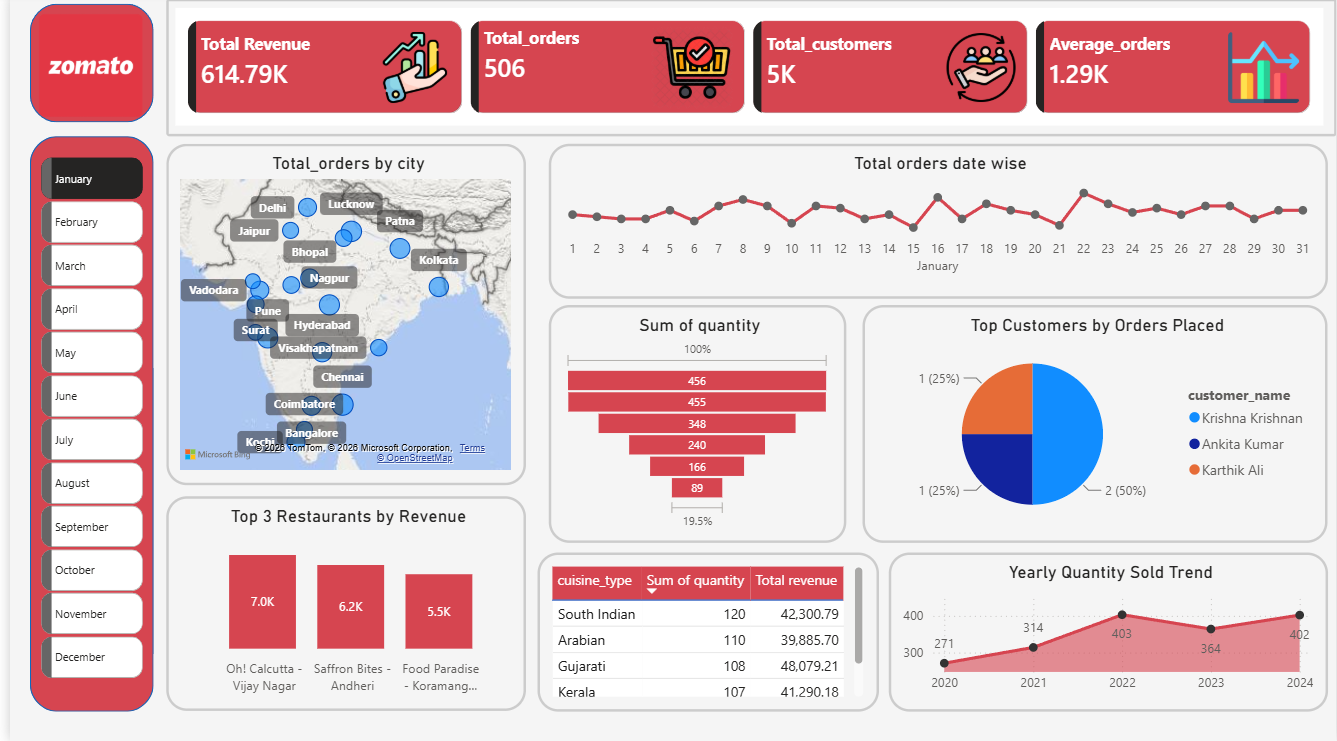

The dashboard page shown, as its layout file describes it:
{"tool":"powerbi","page":{"name":"Page 1","canvas":[1280,720],"ordinal":0},"visuals":[{"type":"shape","box":[19.3,8.4,119.3,114.5],"z":0},{"type":"image","box":[2.5,0,151.2,136.2],"z":1000},{"type":"shape","box":[19.3,136.1,119.3,555.4],"z":2000},{"type":"advancedSlicerVisual","fields":{"Values":["orders_table.order_date.Variation.Date Hierarchy.Month"]},"box":[24.1,143.6,108.6,547.7],"z":3000},{"type":"cardVisual","fields":{"Data":["Sum(orders_table.final_amount)","orders_table.Total_orders","customers_table.Total_customers","orders_table.Average_order_value"]},"box":[150.8,3.6,1129.2,132.7],"z":4000},{"type":"map","fields":{"Category":["restaurants_table.city"],"Size":["orders_table.Total_orders"]},"box":[150.8,143.6,347.5,329.4],"z":5000},{"type":"lineChart","title":"Total orders date wise","fields":{"Y":["orders_table.Total_orders"],"Category":["orders_table.order_date.Variation.Date Hierarchy.Month","orders_table.order_date.Variation.Date Hierarchy.Day"]},"box":[520,143.6,751.6,149.6],"z":6000},{"type":"columnChart","title":"Top 3 Restaurants by Revenue","fields":{"Category":["restaurants_table.restaurant_name"],"Y":["orders_table.Total revenue"]},"box":[150.8,483.8,347.5,207.5],"z":7000},{"type":"pieChart","title":"Top  Customers by Orders Placed","fields":{"Y":["orders_table.Total_orders"],"Category":["customers_table.customer_name"]},"box":[822.8,299.2,448.8,229.2],"z":8000},{"type":"funnel","title":"Sum of  quantity","fields":{"Y":["Sum(orders_table.quantity)"],"Category":["orders_table.quantity"]},"box":[520,299.2,287.1,229.2],"z":9000},{"type":"areaChart","title":"Yearly Quantity Sold Trend","fields":{"Category":["orders_table.order_date.Variation.Date Hierarchy.Year","orders_table.order_date.Variation.Date Hierarchy.Month"],"Y":["Sum(orders_table.quantity)"]},"box":[848,537.9,424,153.7],"z":10000},{"type":"tableEx","fields":{"Values":["restaurants_table.cuisine_type","Sum(orders_table.quantity)","orders_table.Total revenue"]},"box":[509.1,537.9,329.3,153.7],"z":11000}]}

Visuals, with their boxes in screenshot pixels (x1, y1, x2, y2), scaled from the page's 1280x720 canvas onto the 1337x741 screenshot:
shape: crop(20, 9, 145, 126)
image: crop(3, 0, 161, 140)
shape: crop(20, 140, 145, 712)
advancedSlicerVisual - orders_table.order_date.Variation.Date Hierarchy.Month: crop(25, 148, 139, 711)
cardVisual - Sum(orders_table.final_amount) x orders_table.Total_orders: crop(158, 4, 1336, 140)
map - restaurants_table.city x orders_table.Total_orders: crop(158, 148, 520, 487)
"Total orders date wise" lineChart: crop(543, 148, 1328, 302)
"Top 3 Restaurants by Revenue" columnChart: crop(158, 498, 520, 711)
"Top  Customers by Orders Placed" pieChart: crop(859, 308, 1328, 544)
"Sum of  quantity" funnel: crop(543, 308, 843, 544)
"Yearly Quantity Sold Trend" areaChart: crop(886, 554, 1329, 712)
tableEx - restaurants_table.cuisine_type x Sum(orders_table.quantity): crop(532, 554, 876, 712)
